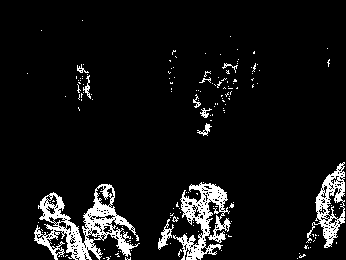person: (81, 180, 139, 260), (32, 190, 90, 260), (191, 71, 222, 138), (73, 61, 94, 112)
